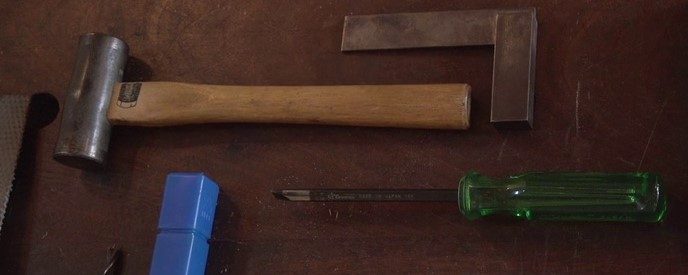hammer: (50, 28, 473, 176)
screwdriver: (267, 169, 670, 227)
